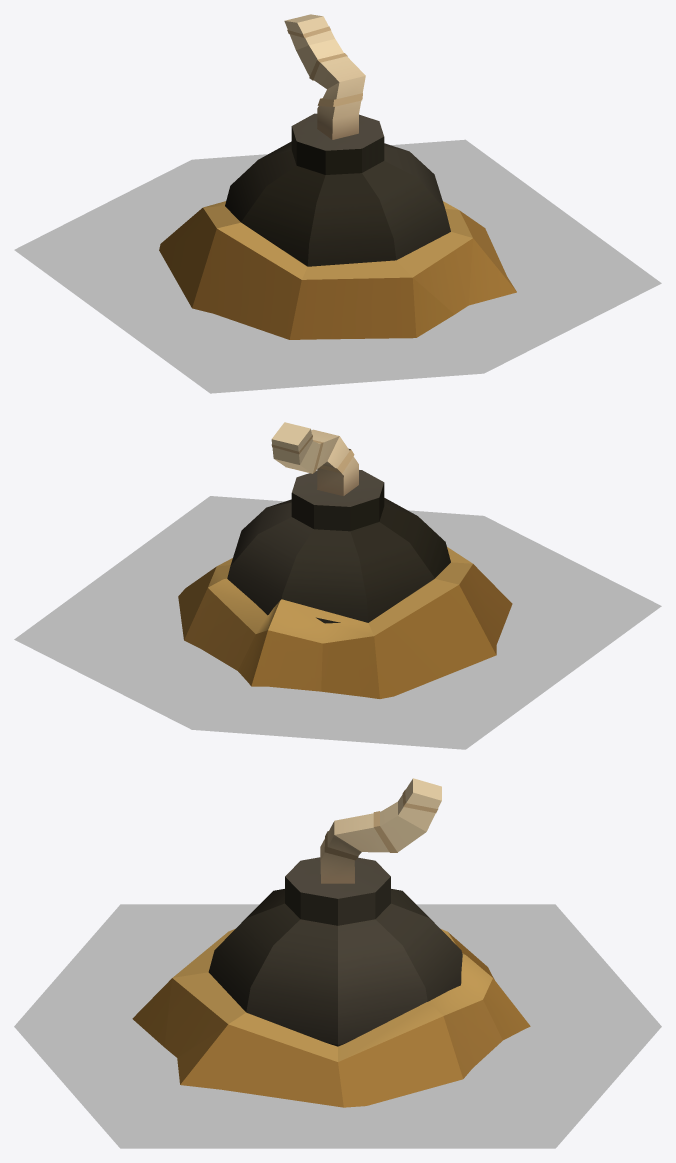
The model's file is Mine.fbx.
3 renders of one model, top to bottom at view 1: azimuth 30°, elevation 25°; view 2: azimuth 150°, elevation 25°; view 3: azimuth 270°, elevation 25°, orthographic. The views are drawn at different scales.
Parts seen in each view (by area): view 1: Mine_Shadow, Mine; view 2: Mine_Shadow, Mine; view 3: Mine_Shadow, Mine.
Boxes of the visible parts, x1=… form: Mine_Shadow: x1=14, y1=139, x2=661, y2=393; Mine: x1=159, y1=14, x2=516, y2=339; Mine_Shadow: x1=14, y1=496, x2=661, y2=749; Mine: x1=178, y1=422, x2=512, y2=698; Mine_Shadow: x1=14, y1=904, x2=661, y2=1148; Mine: x1=132, y1=778, x2=530, y2=1107.
Size of the model in its own units: 0.0294 by 0.0145 by 0.0329.
